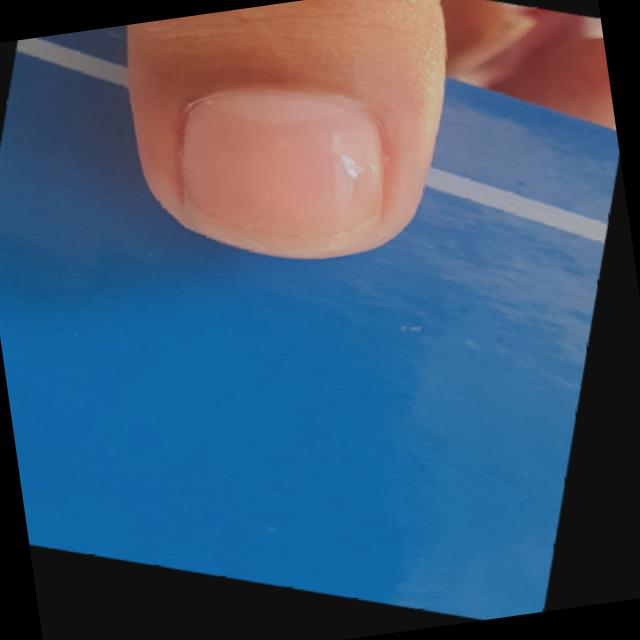Nail: (183, 94, 382, 258)
